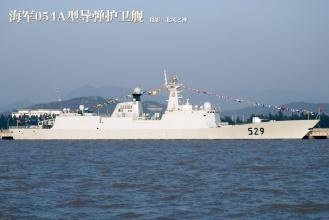warship: (5, 81, 325, 143)
